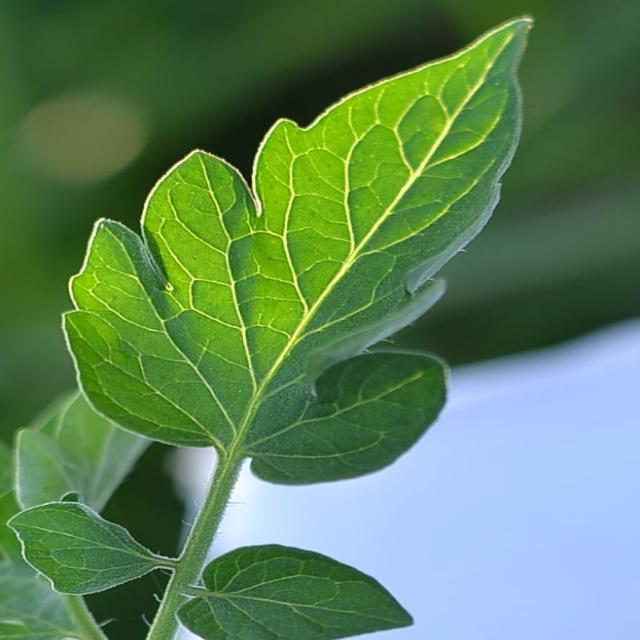healthy: (53, 3, 539, 489), (175, 545, 427, 640), (2, 494, 169, 606)
